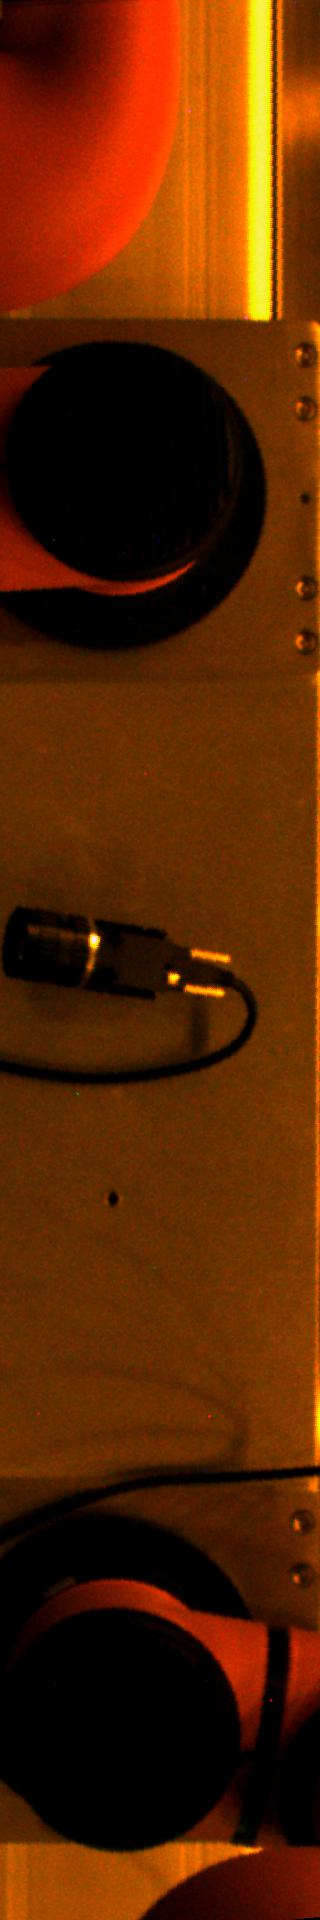keyPoint_2: (97, 1184, 128, 1213)
